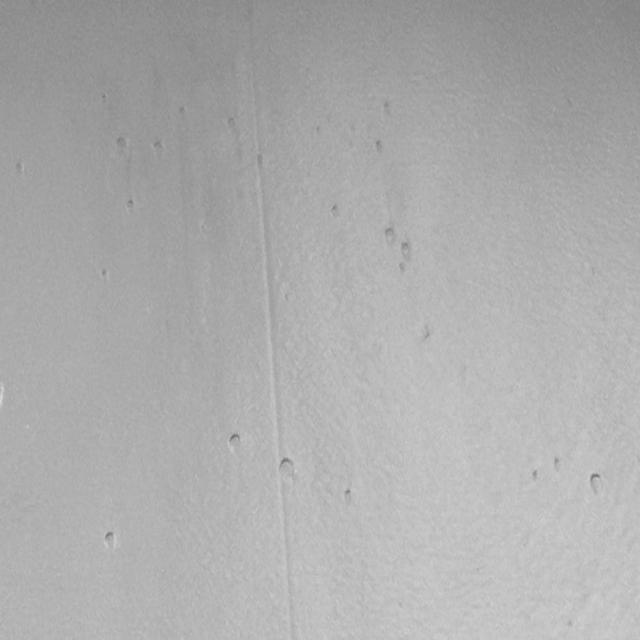pin holes: (586, 471, 609, 500), (276, 454, 297, 484), (398, 240, 418, 268), (225, 430, 246, 456), (380, 224, 400, 251), (113, 134, 131, 159), (419, 321, 438, 344), (341, 486, 359, 508), (101, 530, 118, 553), (372, 136, 388, 158), (152, 136, 168, 158), (0, 381, 12, 408), (551, 456, 566, 477), (328, 201, 344, 220), (380, 99, 395, 119), (124, 197, 139, 216), (226, 114, 241, 132), (14, 160, 28, 179), (531, 467, 545, 485), (175, 105, 188, 124), (98, 266, 111, 284), (257, 153, 262, 169), (102, 92, 108, 105), (315, 124, 321, 136)
